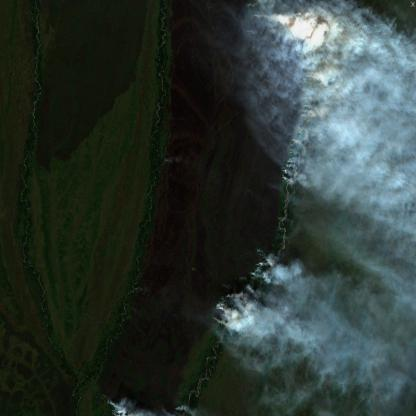fire: (205, 0, 337, 358), (102, 394, 200, 416)
